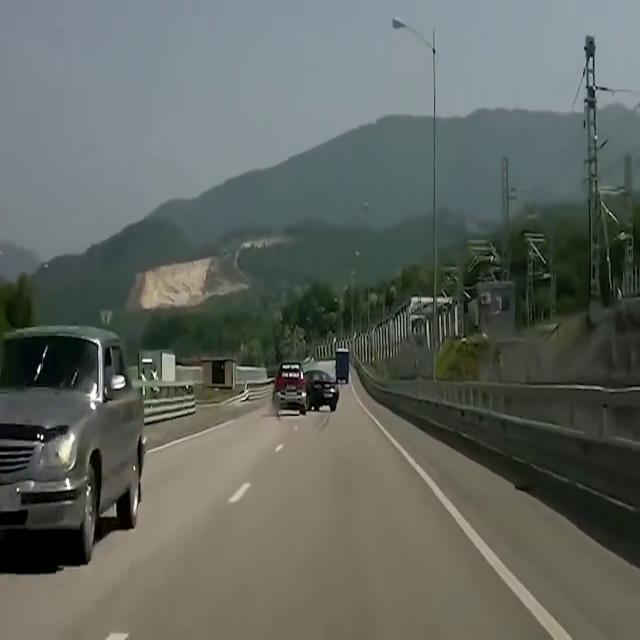accident: (270, 365, 340, 419)
